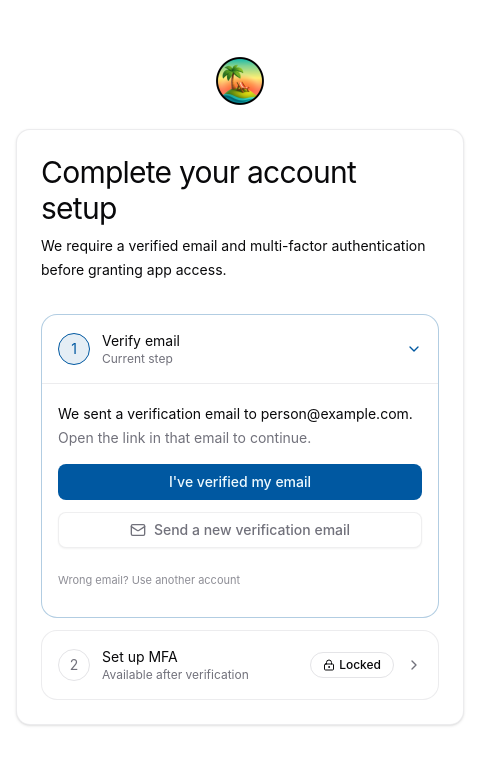
it: AccountSetupPage › uses the explicit verification check action
Click the button "I've verified my email". click: point(240, 482)
box: [58,464,422,500]
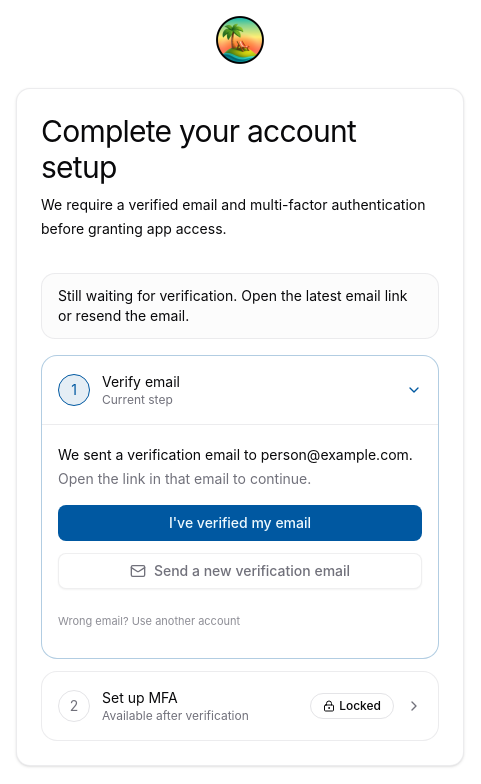
Check: the text "Still waiting for verification. Open the latest email link or resend the email." is shown, box [58,286,422,326]
